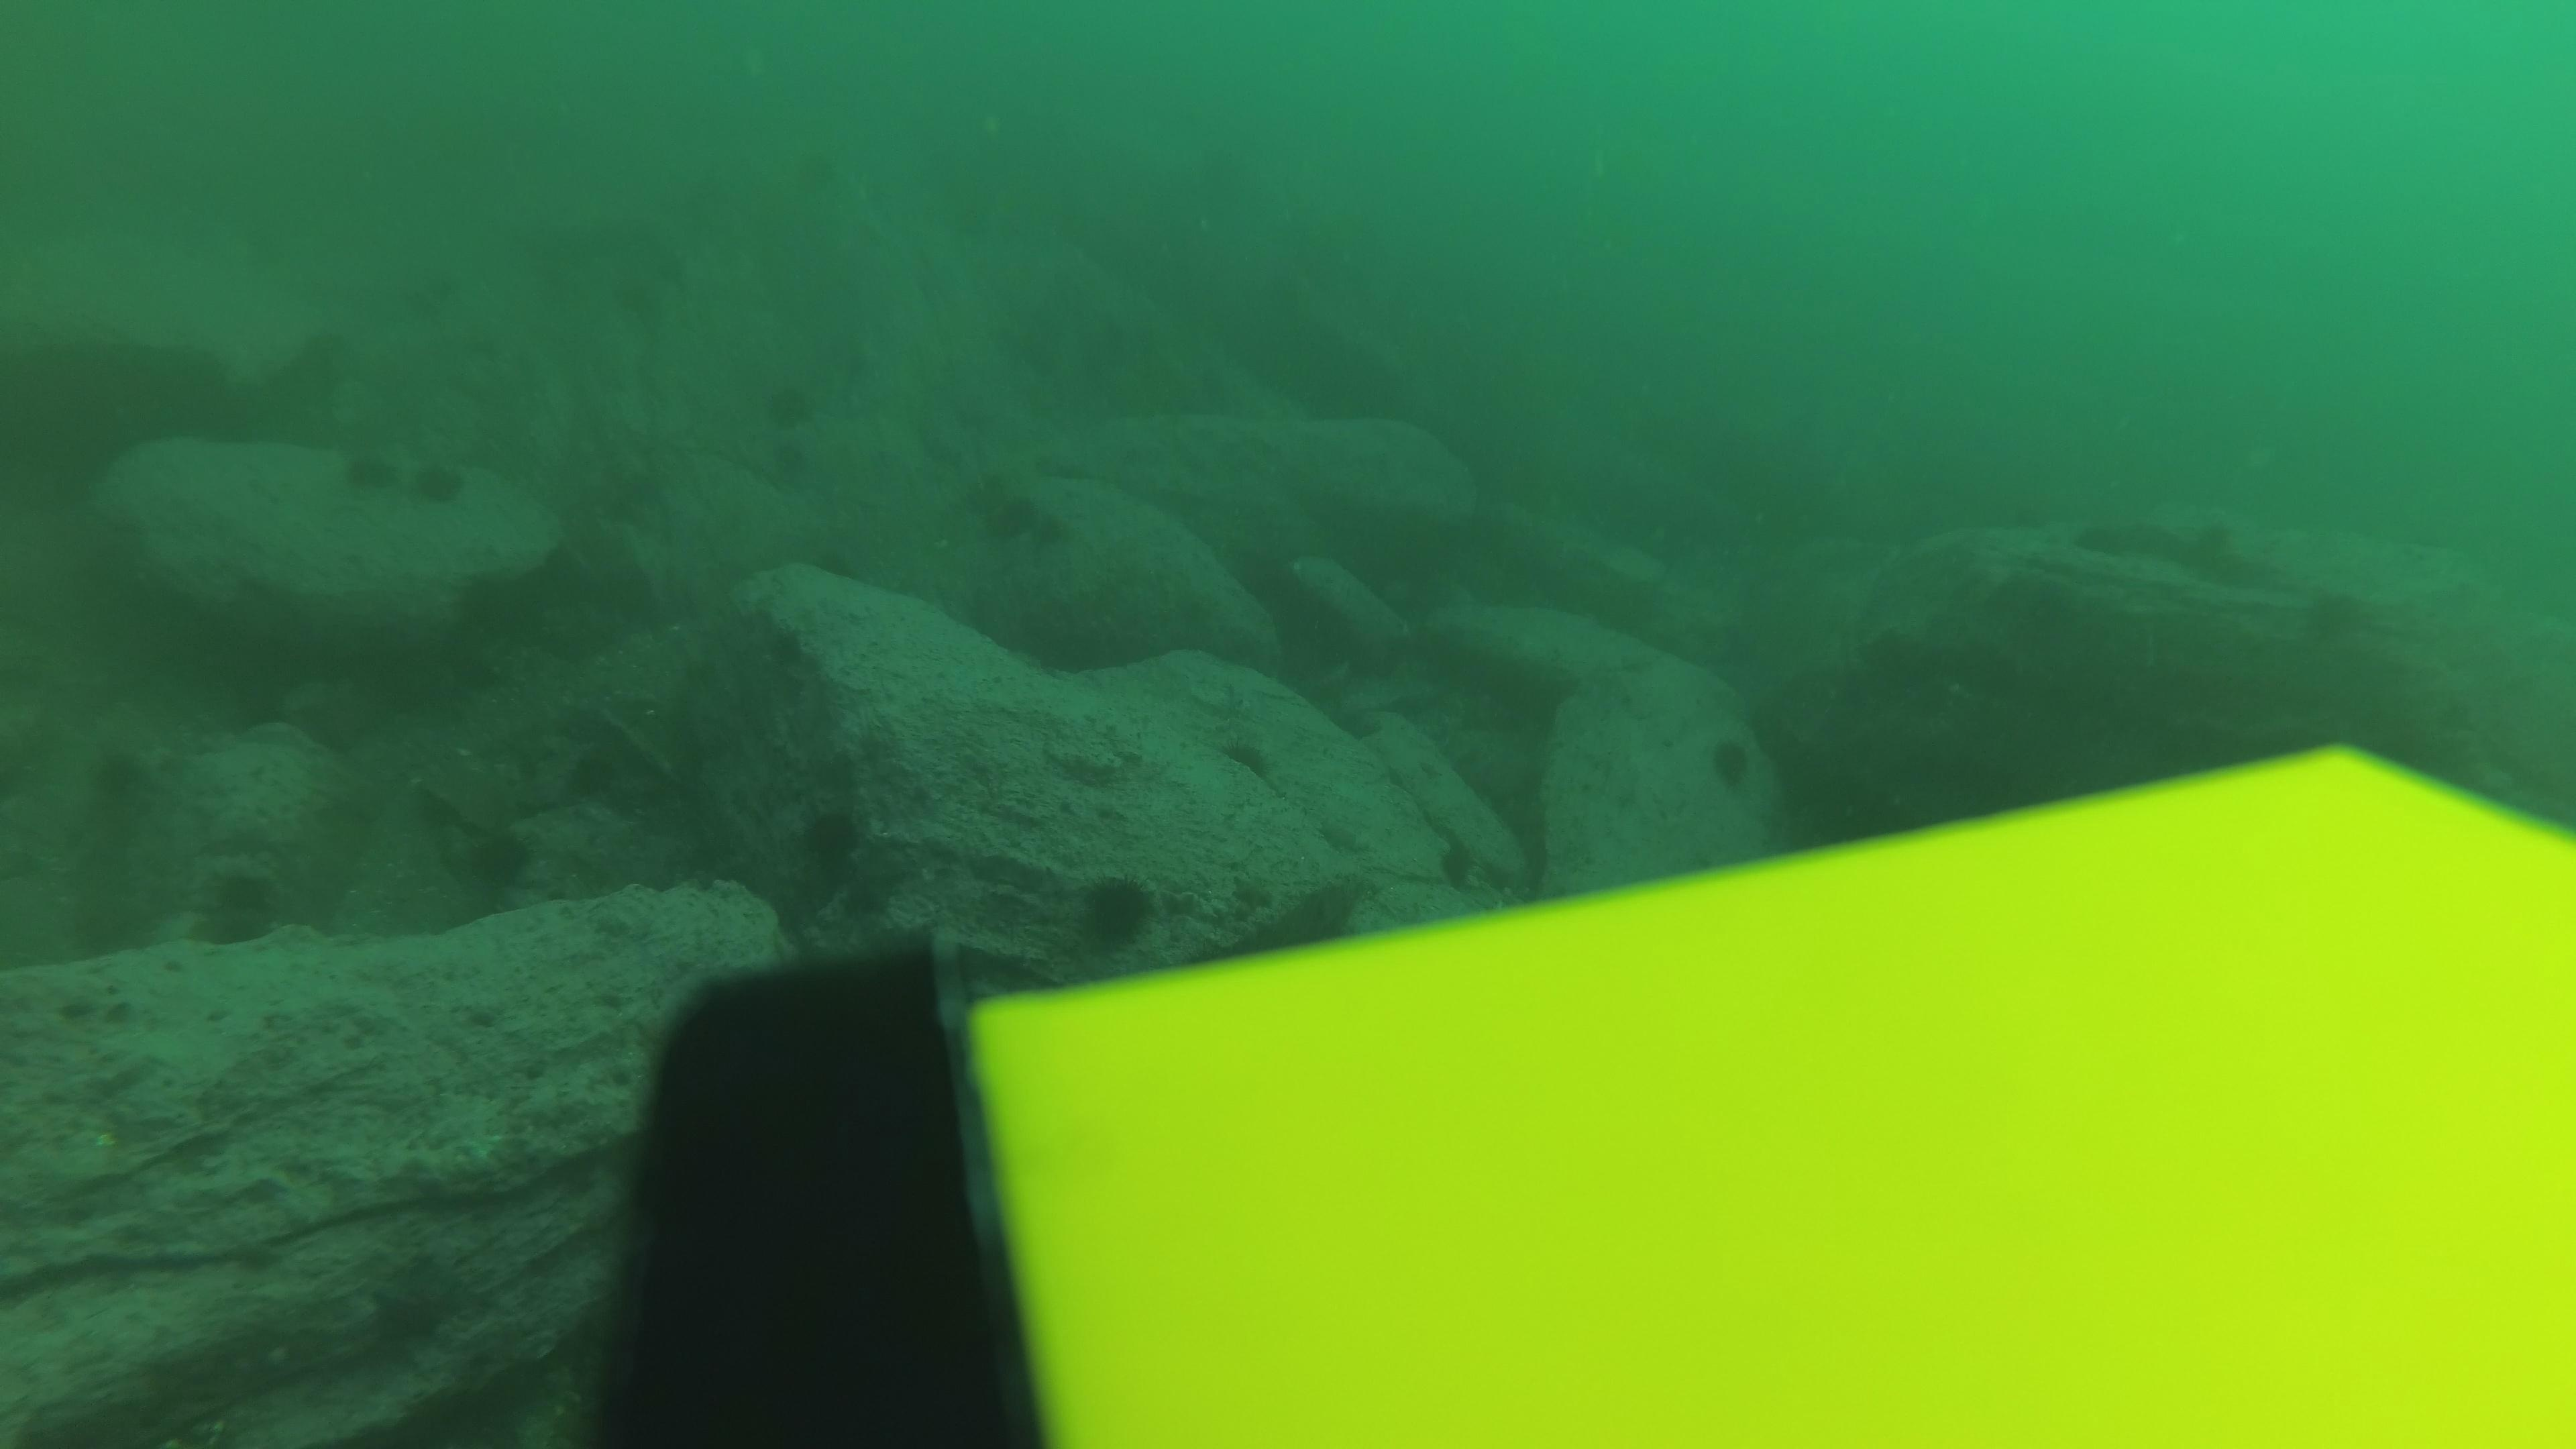echinus: (1065, 869, 1166, 957), (189, 865, 287, 952), (543, 732, 632, 812), (791, 798, 872, 883), (453, 821, 541, 899), (81, 741, 161, 819), (2298, 582, 2373, 649), (333, 441, 402, 502), (405, 453, 471, 513), (1704, 731, 1759, 793), (1028, 513, 1070, 552), (966, 478, 1008, 517), (766, 391, 809, 430), (796, 152, 839, 191), (625, 274, 667, 313), (996, 501, 1039, 538), (771, 437, 814, 474), (653, 251, 695, 288), (812, 545, 855, 582)
starfish: (1212, 731, 1281, 784), (1422, 830, 1491, 883)
